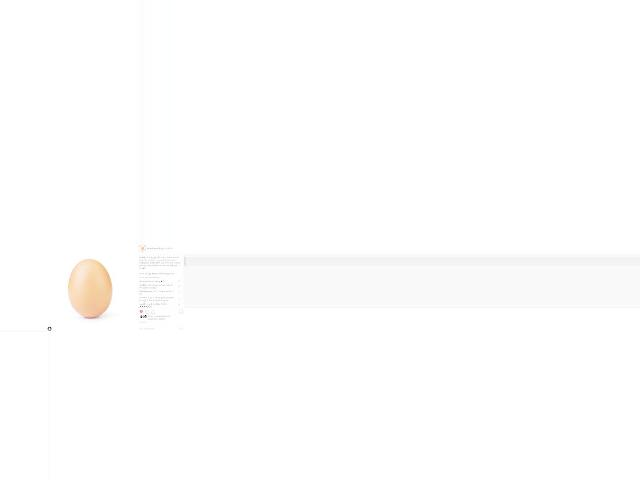egg: (68, 259, 112, 317)
